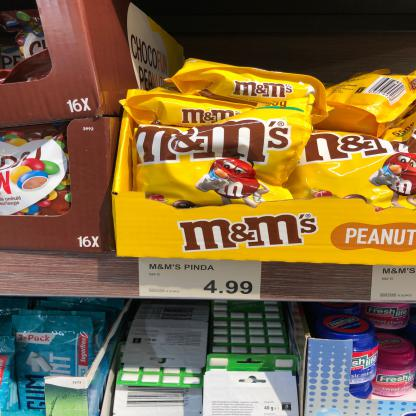prtg: (140, 258, 263, 300)
